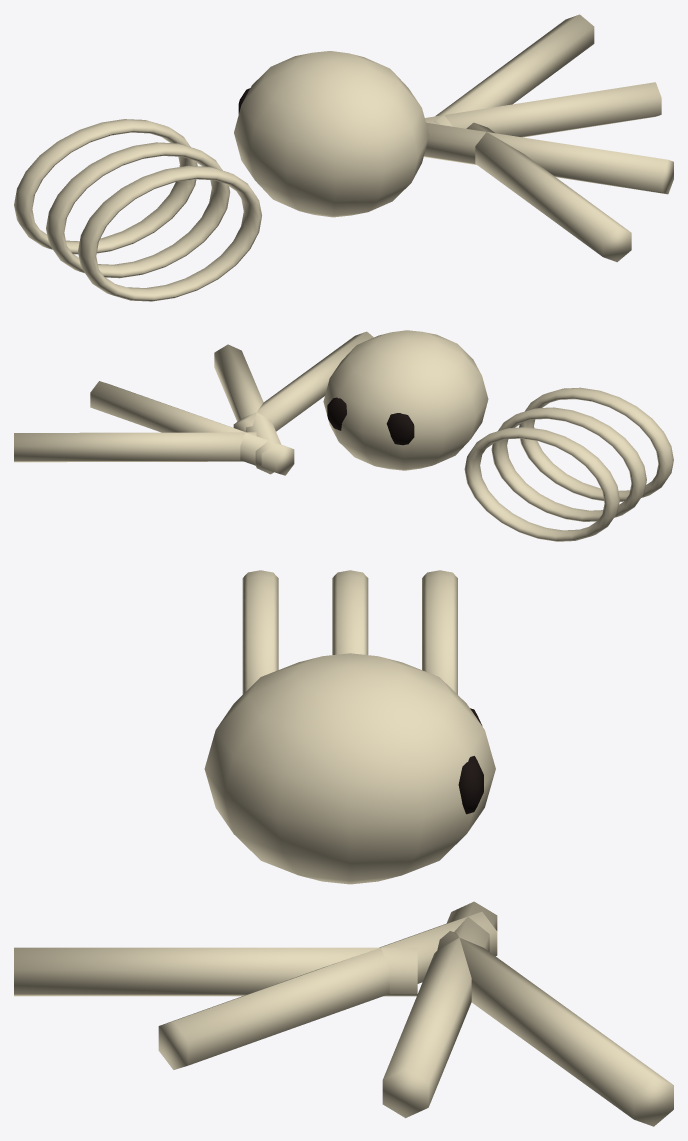
File: bones.glb
3 views of the same model, one above another, from view 1: azimuth 30°, elevation 25°; view 2: azimuth 150°, elevation 25°; view 3: azimuth 270°, elevation 25° (orthographic). The views are drawn at different scales.
Parts seen in each view (by area): view 1: bones; view 2: bones; view 3: bones.
Part boxes in pixels (x1=…): bones: x1=14, y1=14, x2=673, y2=301; bones: x1=14, y1=330, x2=673, y2=541; bones: x1=14, y1=570, x2=673, y2=1126.
Bounding box in the file's own units: 2.34 × 0.566 × 1.47.
